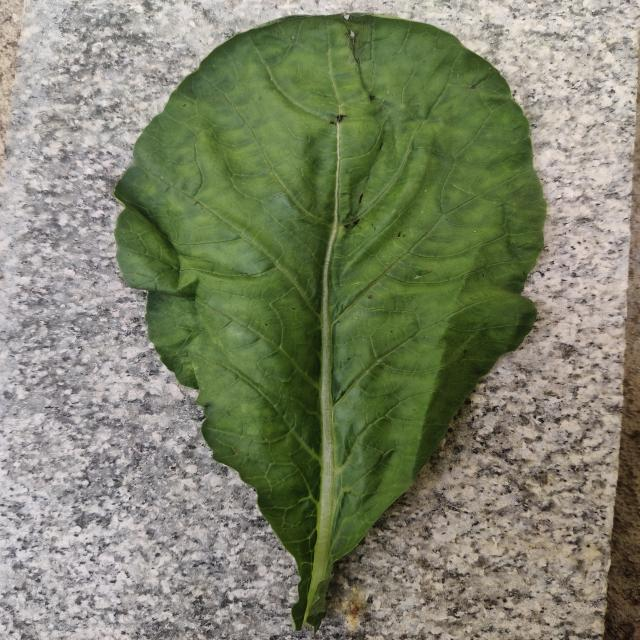raddish: (115, 15, 448, 629), (257, 15, 545, 626)
